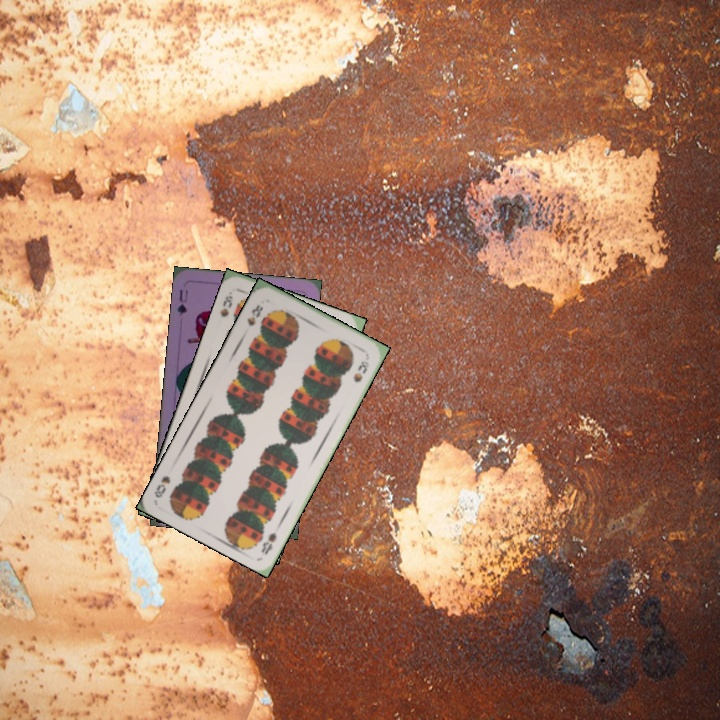GU: (173, 286, 191, 318)
S8: (243, 300, 266, 329), (257, 528, 279, 557), (216, 287, 235, 320)
